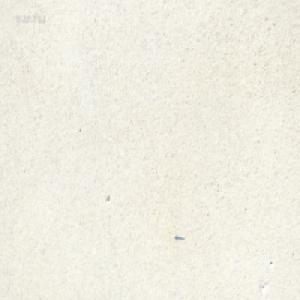Nail: (174, 233, 184, 240)
